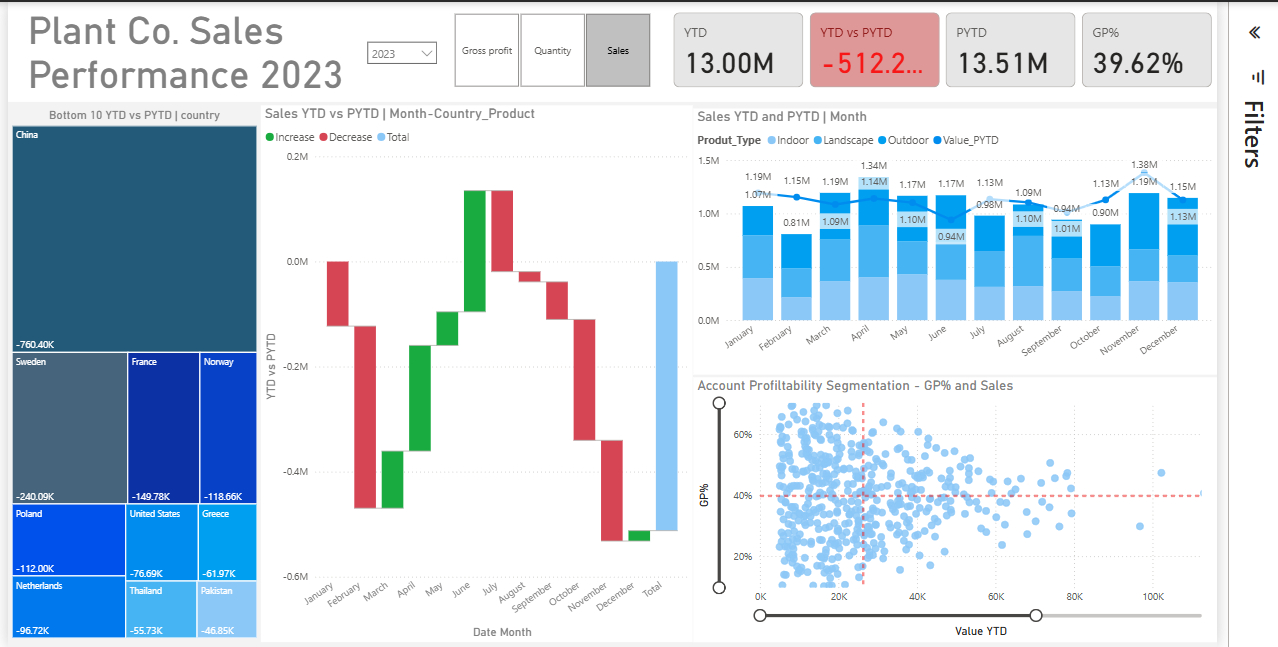

This screenshot's page, from the dashboard's own definition file:
{"tool":"powerbi","page":{"name":"Page 1","canvas":[1500,800],"ordinal":0},"visuals":[{"type":"slicer","fields":{"Values":["Slc Value.Values"]},"box":[528,8,292,104],"z":0},{"type":"treemap","title":"Bottom 10 YTD vs PYTD | country","fields":{"Group":["Dim Account.country"],"Values":["Measure.YTD vs PYTD"]},"box":[0,132,314,662],"z":1000},{"type":"slicer","fields":{"Values":["Dim_Date.Date.Variation.Date Hierarchy.Year"]},"box":[436,40,106,48],"z":2000},{"type":"waterfallChart","fields":{"Y":["Measure.YTD vs PYTD"],"Category":["Dim_Date.Date.Variation.Date Hierarchy.Month","Dim Account.country","Dim_product.Produt_Type","Dim_product.Product_Name"]},"box":[314,128,536,666],"z":3000},{"type":"lineStackedColumnComboChart","fields":{"Category":["Dim_Date.Date.Variation.Date Hierarchy.Quarter","Dim_Date.Date.Variation.Date Hierarchy.Month"],"Series":["Dim_product.Produt_Type"],"Y2":["Measure.S_PYTD"],"Y":["Measure.S_YTD"]},"box":[849.8,131.4,650.8,330.4],"z":4000},{"type":"cardVisual","fields":{"Data":["Measure.S_YTD","Measure.YTD vs PYTD","Measure.S_PYTD","Measure.GP%"]},"box":[820,8,680.7,103.5],"z":5000},{"type":"scatterChart","fields":{"Y":["Measure.GP%"],"Category":["Dim Account.Account"],"X":["Measure.S_YTD"]},"box":[850,466,650,328],"z":5001},{"type":"clusteredColumnChart","box":[20,8,416,104],"z":5002}]}

Visuals, with their boxes on the page's 1500x800 design canvas (x1, y1, x2, y2). These are canvas units, not pixel positions in the 1278x647 screenshot, which may show the page scaled, cropped or inside an application window:
slicer - Slc Value.Values: (x1=528, y1=8, x2=820, y2=112)
"Bottom 10 YTD vs PYTD | country" treemap: (x1=0, y1=132, x2=314, y2=794)
slicer - Dim_Date.Date.Variation.Date Hierarchy.Year: (x1=436, y1=40, x2=542, y2=88)
waterfallChart - Measure.YTD vs PYTD x Dim_Date.Date.Variation.Date Hierarchy.Month: (x1=314, y1=128, x2=850, y2=794)
lineStackedColumnComboChart - Dim_Date.Date.Variation.Date Hierarchy.Quarter x Dim_Date.Date.Variation.Date Hierarchy.Month: (x1=850, y1=131, x2=1501, y2=462)
cardVisual - Measure.S_YTD x Measure.YTD vs PYTD: (x1=820, y1=8, x2=1501, y2=112)
scatterChart - Measure.GP% x Dim Account.Account: (x1=850, y1=466, x2=1500, y2=794)
clusteredColumnChart: (x1=20, y1=8, x2=436, y2=112)
